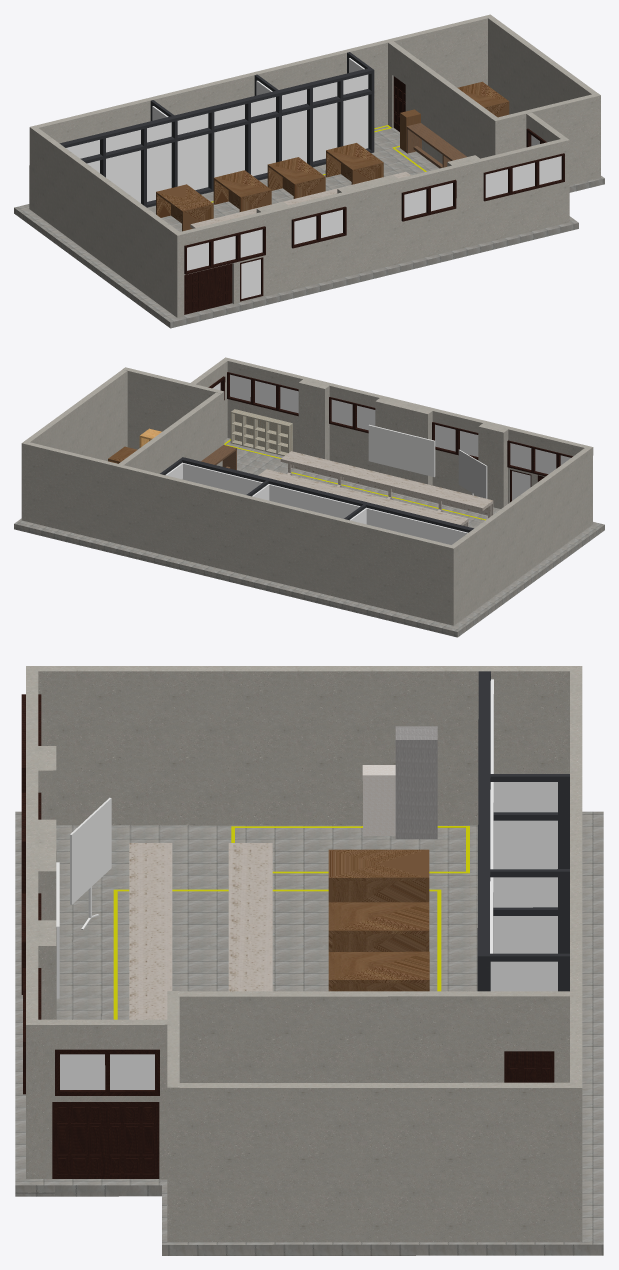
File: IC_Lab.glb
3 views of the same model, one above another, from view 1: azimuth 30°, elevation 25°; view 2: azimuth 150°, elevation 25°; view 3: azimuth 270°, elevation 25° (orthographic). The views are drawn at different scales.
Parts seen in each view (by area): view 1: Tembok, Body43, Lantai, Lemari Kecil, Bingkai Ruang Dosen, Frame Jendela, Meja Gabung 7, Meja Gabung 2; view 2: Tembok, Lantai, Body43, Meja Gabung 2, Papan Tulis, Frame Jendela, Rak Sepatu, Bingkai Ruang Dosen, Meja Gabung 7, Body36; view 3: Tembok, Lantai, Body43, Lemari Kecil, Meja Gabung 2, Frame Jendela, Bingkai Ruang Dosen, Meja Gabung 6, Papan Tulis, Body36, Lemari.
Part boxes in pixels (x1,y1,x2,y2): Tembok: [29, 14, 600, 317]; Body43: [66, 58, 561, 298]; Lantai: [14, 126, 604, 328]; Lemari Kecil: [156, 81, 509, 231]; Bingkai Ruang Dosen: [59, 52, 374, 207]; Frame Jendela: [184, 76, 564, 314]; Meja Gabung 7: [406, 123, 466, 168]; Meja Gabung 2: [190, 171, 410, 228]; Tembok: [21, 357, 593, 625]; Lantai: [14, 438, 604, 637]; Body43: [165, 374, 570, 544]; Meja Gabung 2: [258, 451, 493, 526]; Papan Tulis: [368, 424, 487, 513]; Frame Jendela: [208, 372, 572, 502]; Rak Sepatu: [230, 409, 292, 455]; Bingkai Ruang Dosen: [160, 457, 473, 532]; Meja Gabung 7: [201, 445, 236, 470]; Body36: [224, 439, 485, 520]; Tembok: [26, 666, 582, 1242]; Lantai: [15, 811, 603, 1255]; Body43: [60, 679, 557, 1089]; Lemari Kecil: [328, 849, 429, 991]; Meja Gabung 2: [129, 843, 272, 1019]; Frame Jendela: [21, 694, 554, 1178]; Bingkai Ruang Dosen: [477, 671, 569, 991]; Meja Gabung 6: [395, 726, 437, 839]; Papan Tulis: [56, 797, 111, 998]; Body36: [113, 826, 469, 1019]; Lemari: [362, 765, 395, 835].
Size of the model in its own units: 19.32 by 3.45 by 11.08.
14 materials, 11 textured.
